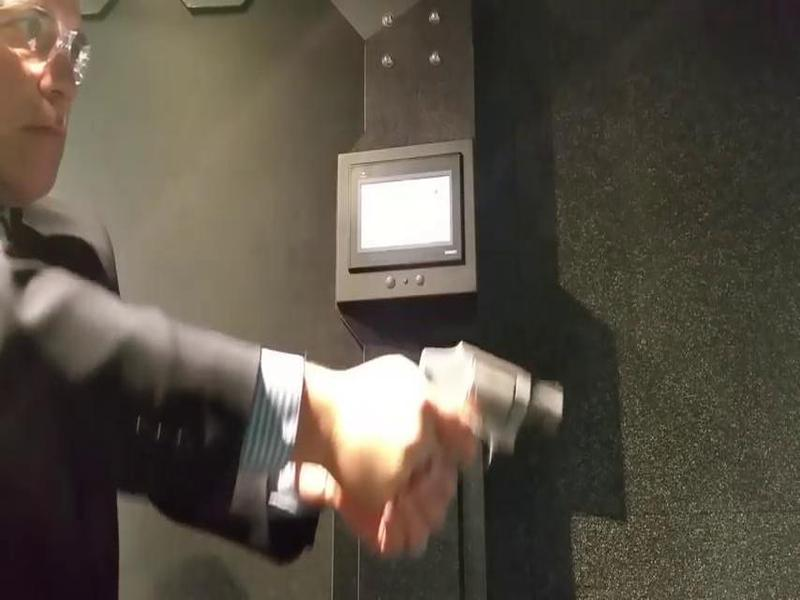Revolver: (408, 331, 574, 467)
